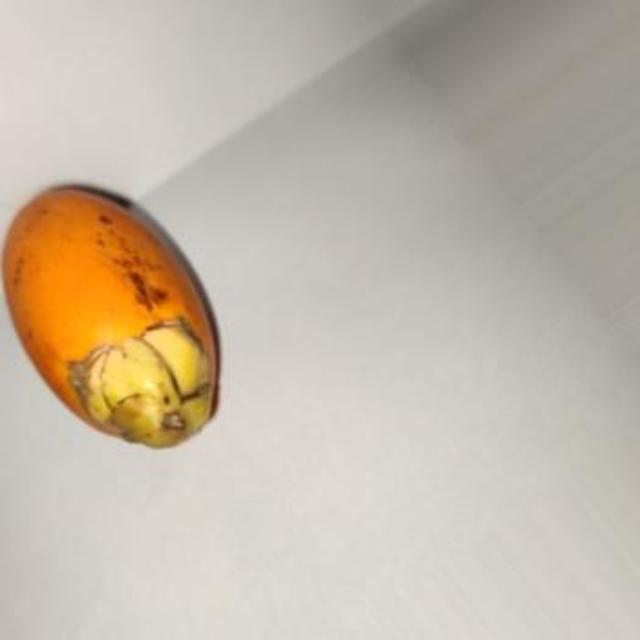good: (0, 185, 221, 452)
